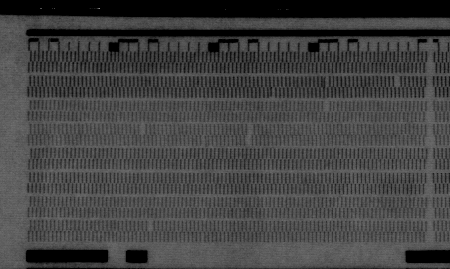Broken hole: (243, 123, 254, 146), (320, 100, 333, 114), (144, 219, 157, 232), (392, 76, 403, 90), (138, 123, 147, 135)
Oblique printing: (319, 76, 333, 90), (198, 135, 211, 148), (266, 87, 277, 100)
